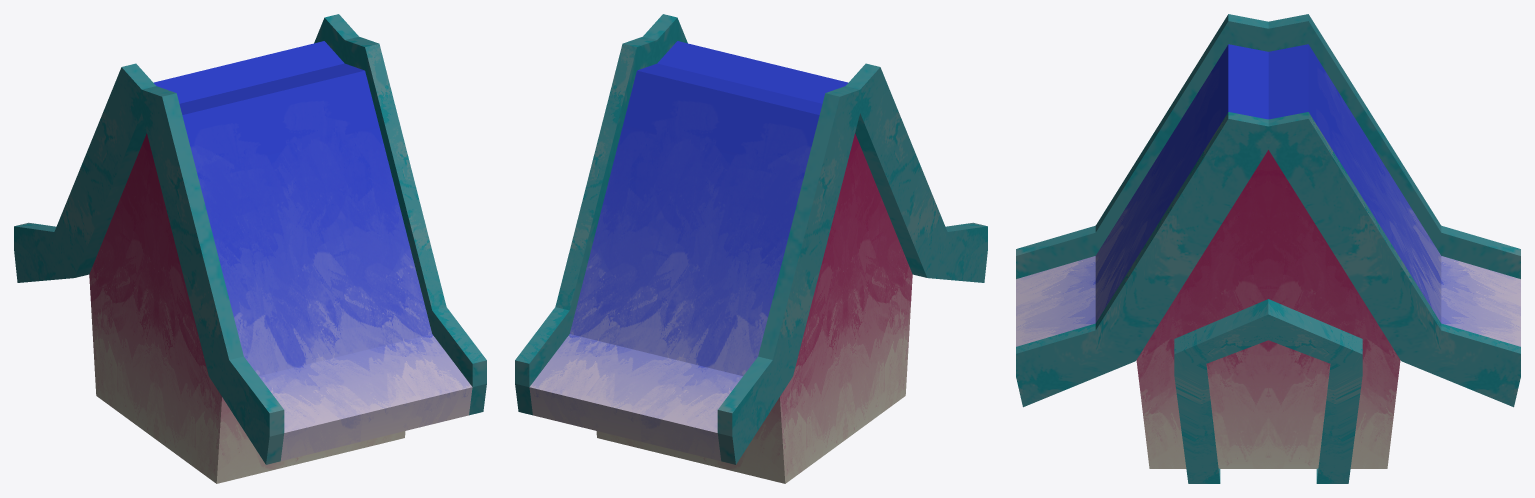
Rendered from Housetttt.fbx.
The picture shows the model from 3 angles, left to right: view 1: azimuth 30°, elevation 25°; view 2: azimuth 150°, elevation 25°; view 3: azimuth 270°, elevation 25°; orthographic projection.
Visible parts, largest first — view 1: House; view 2: House; view 3: House.
Part boxes in pixels (x1,y1,x2,y2): House: (14,14,486,483); House: (515,14,987,483); House: (1016,14,1520,483).
Bounding box in the file's own units: 340 × 499 × 640.
Materials: 1 (1 with a texture image).
